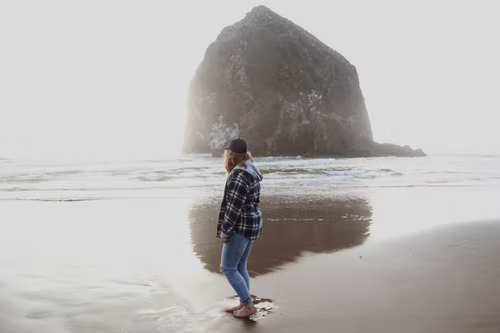person: (219, 139, 262, 318)
